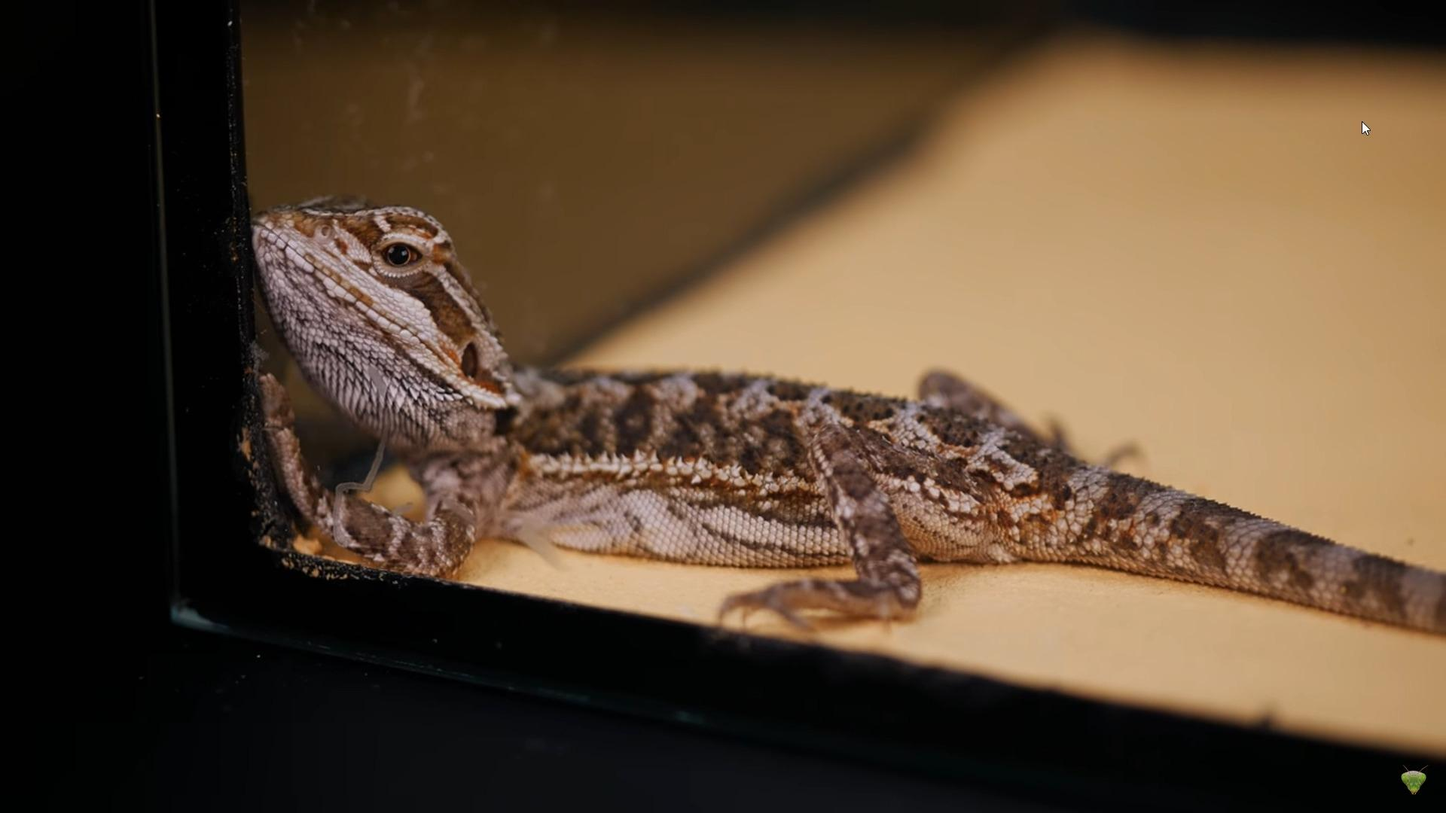lizard: (225, 185, 1329, 648)
